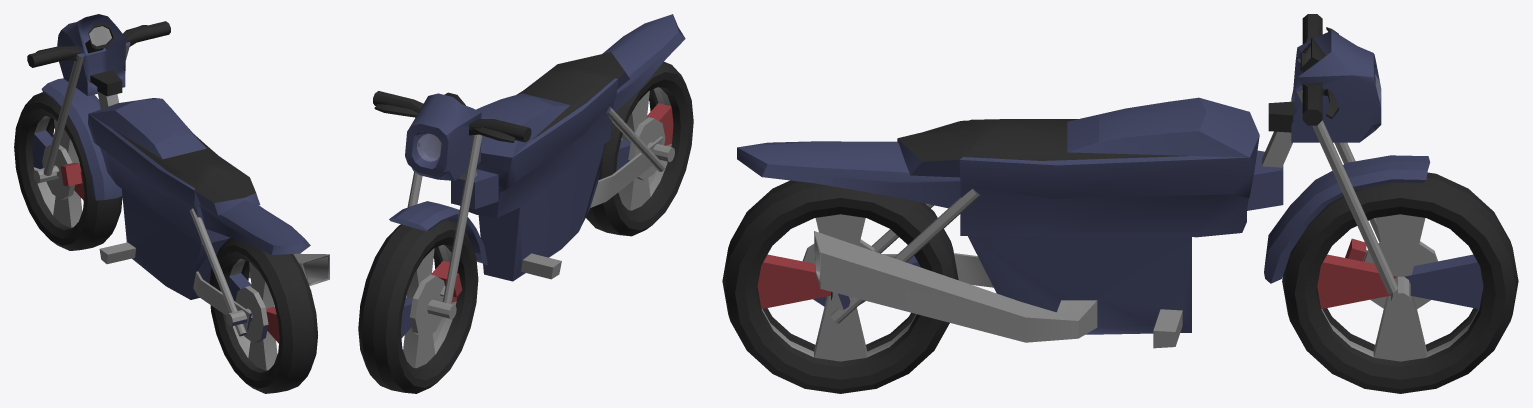
The model's file is motorcycle.glb.
3 renders of one model, left to right at view 1: azimuth 30°, elevation 25°; view 2: azimuth 150°, elevation 25°; view 3: azimuth 270°, elevation 25°, orthographic. The views are drawn at different scales.
Parts seen in each view (by area): view 1: Moto_Body, B_Tire, manubrio, F_Tire; view 2: Moto_Body, F_Tire, manubrio, B_Tire, Headlight; view 3: Moto_Body, F_Tire, B_Tire, manubrio.
Boxes of the visible parts, x1=… form: Moto_Body: x1=88, y1=70, x2=329, y2=343; B_Tire: x1=210, y1=238, x2=317, y2=393; manubrio: x1=27, y1=14, x2=170, y2=200; F_Tire: x1=14, y1=92, x2=122, y2=250; Moto_Body: x1=451, y1=14, x2=685, y2=281; F_Tire: x1=358, y1=219, x2=478, y2=393; manubrio: x1=373, y1=91, x2=531, y2=337; B_Tire: x1=586, y1=62, x2=693, y2=236; Headlight: x1=417, y1=134, x2=440, y2=160; Moto_Body: x1=737, y1=97, x2=1294, y2=348; F_Tire: x1=1282, y1=172, x2=1518, y2=393; B_Tire: x1=722, y1=180, x2=958, y2=393; manubrio: x1=1264, y1=14, x2=1437, y2=310.
Bounding box in the file's own units: 0.7192 × 1.24 × 2.53.
